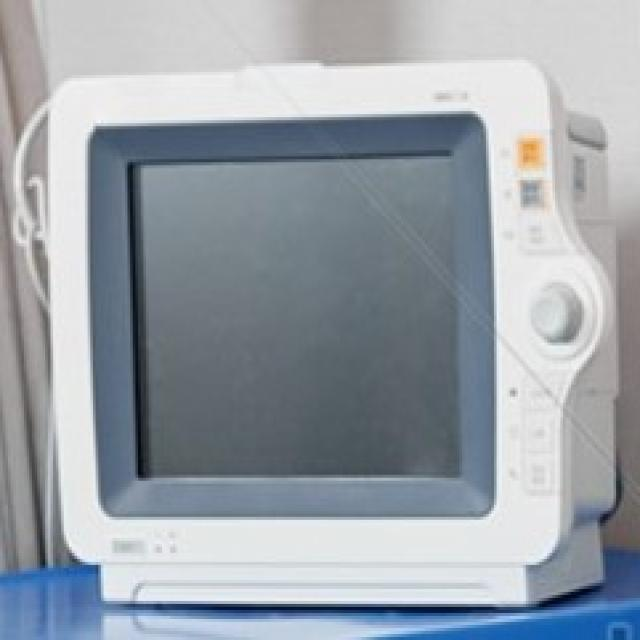Monitor: (38, 54, 622, 610)
